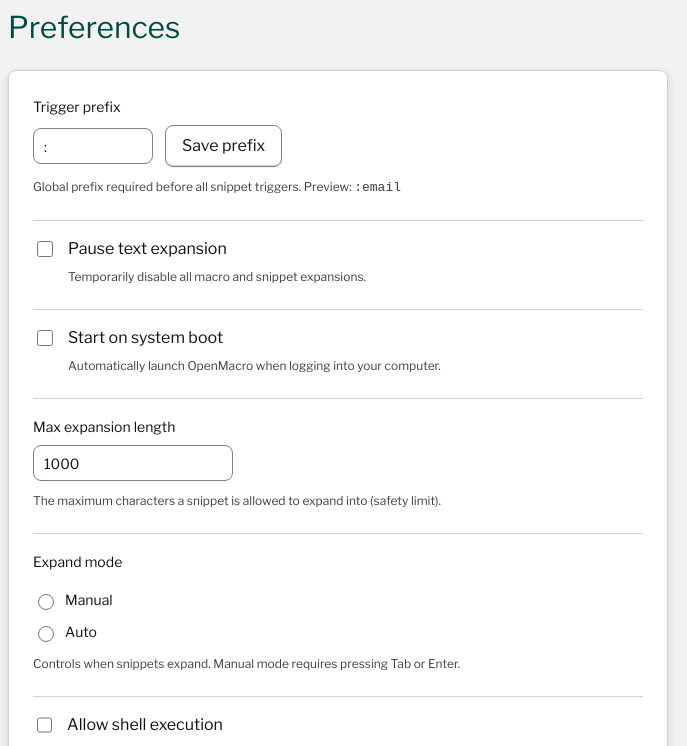
Test case: PrefsPanel › invalid prefix shows backend error
Replace the text in the field labelled "Trigger prefix" with "123": (93, 146) [33, 128, 153, 164]
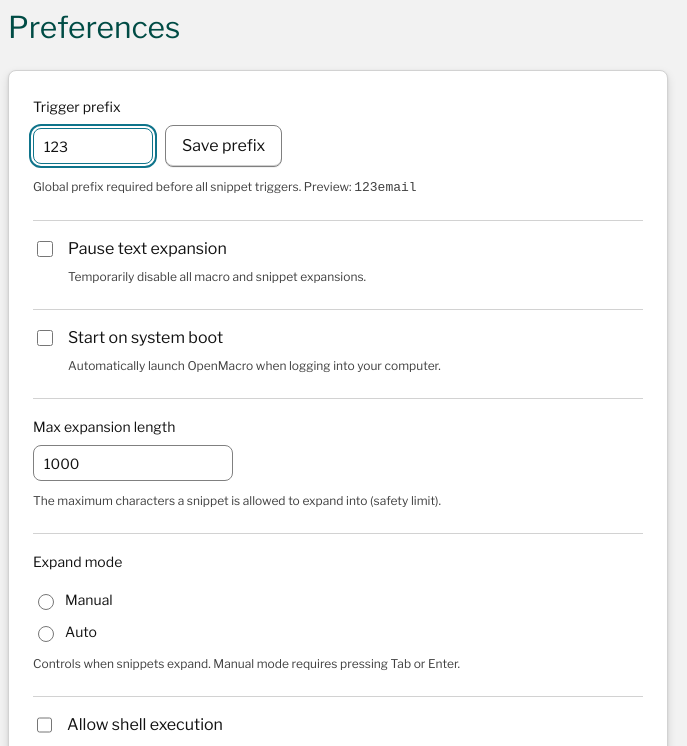
Click the button "Save prefix": (224, 146) [165, 125, 282, 167]
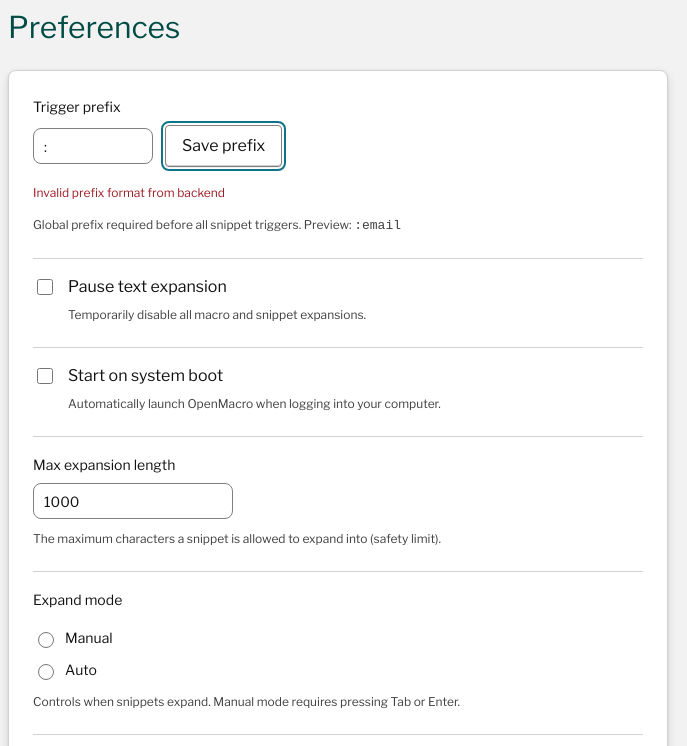
Expected: the text "Invalid prefix format from backend" is shown, [33, 185, 225, 200]
